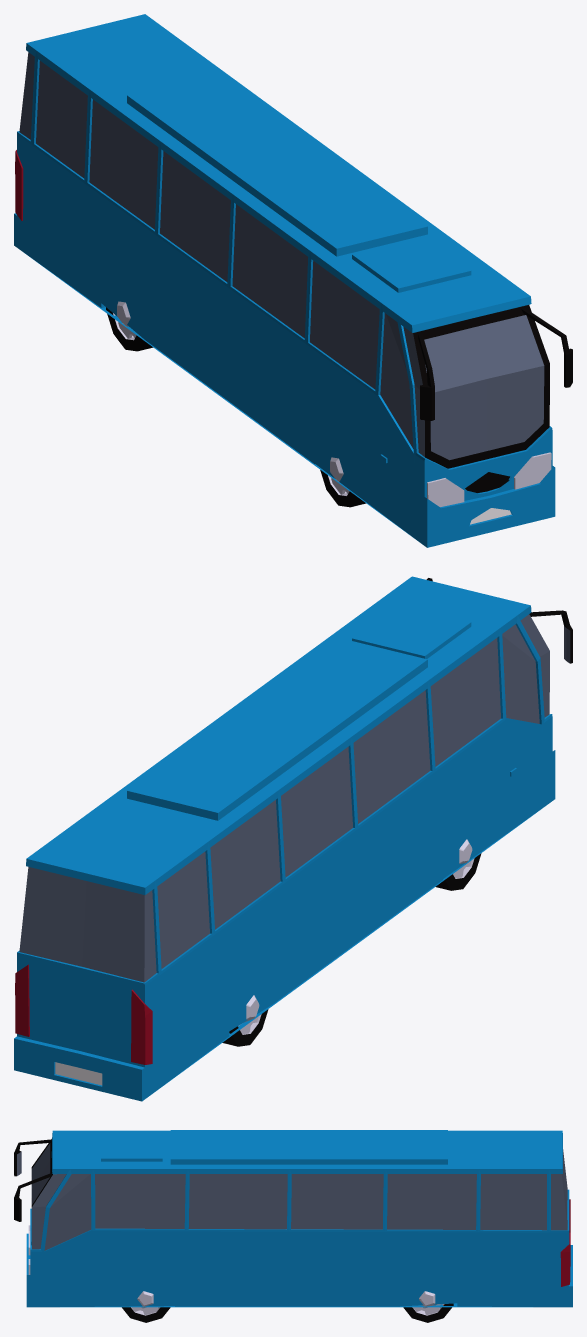
The model's file is coach-bus.glb.
The picture shows the model from 3 angles, top to bottom: view 1: azimuth 30°, elevation 25°; view 2: azimuth 150°, elevation 25°; view 3: azimuth 270°, elevation 25°; orthographic projection. The views are drawn at different scales.
Visible parts, largest first — view 1: coach-bus; view 2: coach-bus; view 3: coach-bus.
Part boxes in pixels (bbox=[...]): coach-bus: bbox=[14, 14, 572, 547]; coach-bus: bbox=[14, 576, 572, 1101]; coach-bus: bbox=[14, 1130, 572, 1322].
Bounding box in the file's own units: 2.5 × 3.74 × 12.
